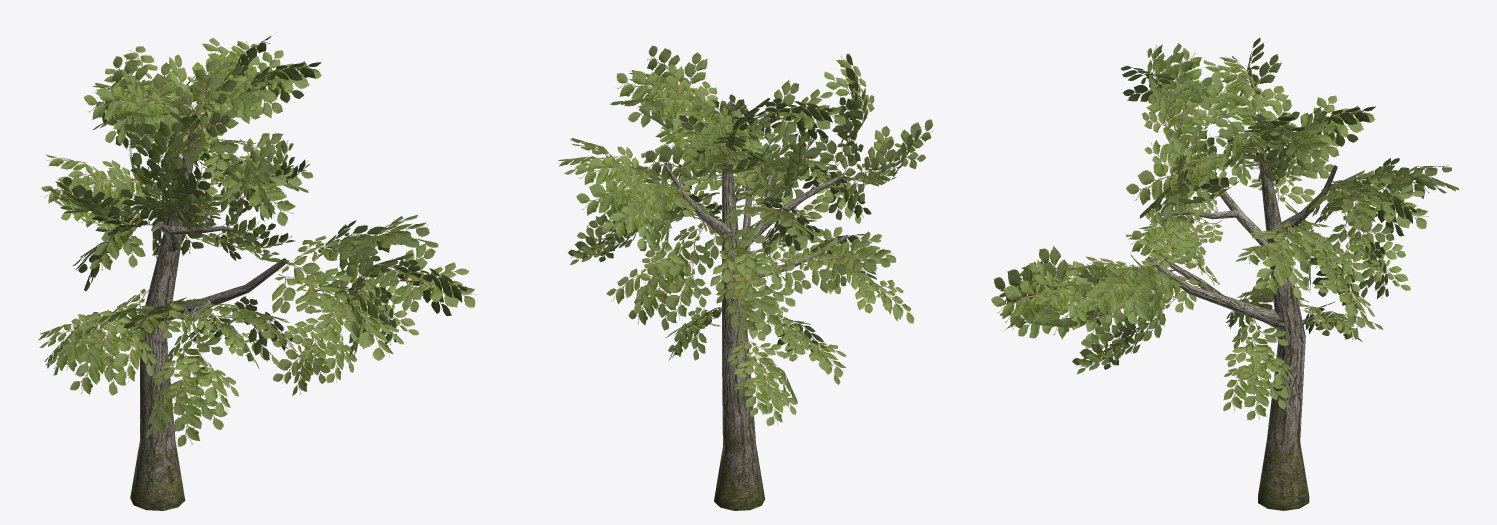
File: tree.fbx
The picture shows the model from 3 angles, left to right: view 1: azimuth 30°, elevation 25°; view 2: azimuth 150°, elevation 25°; view 3: azimuth 270°, elevation 25°; orthographic projection. The views are drawn at different scales.
Visible parts, largest first — view 1: Tree_trunk, pPlane8.021, pPlane11.019, pPlane24, pPlane10.018, pPlane23.001, pPlane10.012, pPlane9.005, pPlane31, pPlane11.020, pPlane21, pPlane17 (+59 smaller); view 2: Tree_trunk, pPlane11.021, pPlane9.007, pPlane11.008, pPlane16, pPlane8.008, pPlane7.004, pPlane11.013, pPlane10.019, pPlane11.007, pPlane9.002, pPlane14 (+53 smaller); view 3: Tree_trunk, pPlane11.012, pPlane11.018, Tree_Branch, pPlane30, pPlane25, pPlane22.001, pPlane7.019, pPlane8.019, pPlane26, pPlane10.001, pPlane7.014 (+48 smaller).
Part boxes in pixels (x1=…): Tree_trunk: x1=130, y1=133, x2=196, y2=510; pPlane8.021: x1=173, y1=60, x2=238, y2=140; pPlane11.019: x1=84, y1=72, x2=150, y2=145; pPlane24: x1=272, y1=268, x2=355, y2=313; pPlane10.018: x1=222, y1=159, x2=302, y2=226; pPlane23.001: x1=129, y1=120, x2=187, y2=178; pPlane10.012: x1=400, y1=262, x2=476, y2=312; pPlane9.005: x1=104, y1=315, x2=157, y2=382; pPlane31: x1=351, y1=215, x2=429, y2=274; pPlane11.020: x1=111, y1=56, x2=177, y2=114; pPlane21: x1=174, y1=351, x2=239, y2=414; pPlane17: x1=166, y1=376, x2=227, y2=446; Tree_trunk: x1=714, y1=144, x2=764, y2=510; pPlane11.021: x1=616, y1=63, x2=686, y2=127; pPlane9.007: x1=657, y1=253, x2=711, y2=320; pPlane11.008: x1=716, y1=273, x2=776, y2=340; pPlane16: x1=829, y1=231, x2=890, y2=287; pPlane8.008: x1=702, y1=225, x2=765, y2=278; pPlane7.004: x1=800, y1=227, x2=869, y2=293; pPlane11.013: x1=576, y1=160, x2=644, y2=232; pPlane10.019: x1=774, y1=89, x2=845, y2=146; pPlane11.007: x1=606, y1=256, x2=668, y2=312; pPlane9.002: x1=576, y1=146, x2=646, y2=203; pPlane14: x1=776, y1=234, x2=839, y2=293; Tree_trunk: x1=1258, y1=153, x2=1309, y2=510; pPlane11.012: x1=991, y1=260, x2=1061, y2=336; pPlane11.018: x1=1126, y1=139, x2=1207, y2=218; Tree_Branch: x1=1147, y1=256, x2=1291, y2=329; pPlane30: x1=1080, y1=277, x2=1150, y2=323; pPlane25: x1=993, y1=246, x2=1074, y2=323; pPlane22.001: x1=1142, y1=64, x2=1192, y2=134; pPlane7.019: x1=1210, y1=67, x2=1288, y2=113; pPlane8.019: x1=1216, y1=83, x2=1289, y2=156; pPlane26: x1=1042, y1=261, x2=1116, y2=348; pPlane10.001: x1=1255, y1=248, x2=1308, y2=297; pPlane7.014: x1=1342, y1=223, x2=1394, y2=281.
Size of the model in its own units: 179 by 209 by 208.
Materials: 2 (2 with a texture image).
